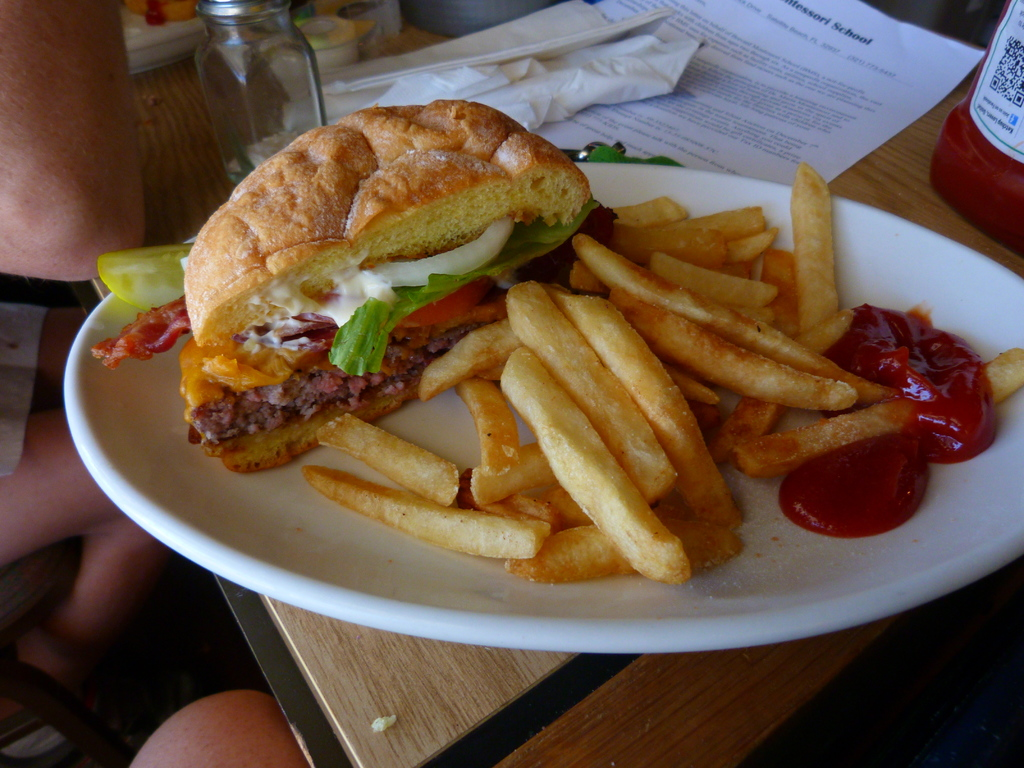French fries: (284, 165, 1023, 606)
